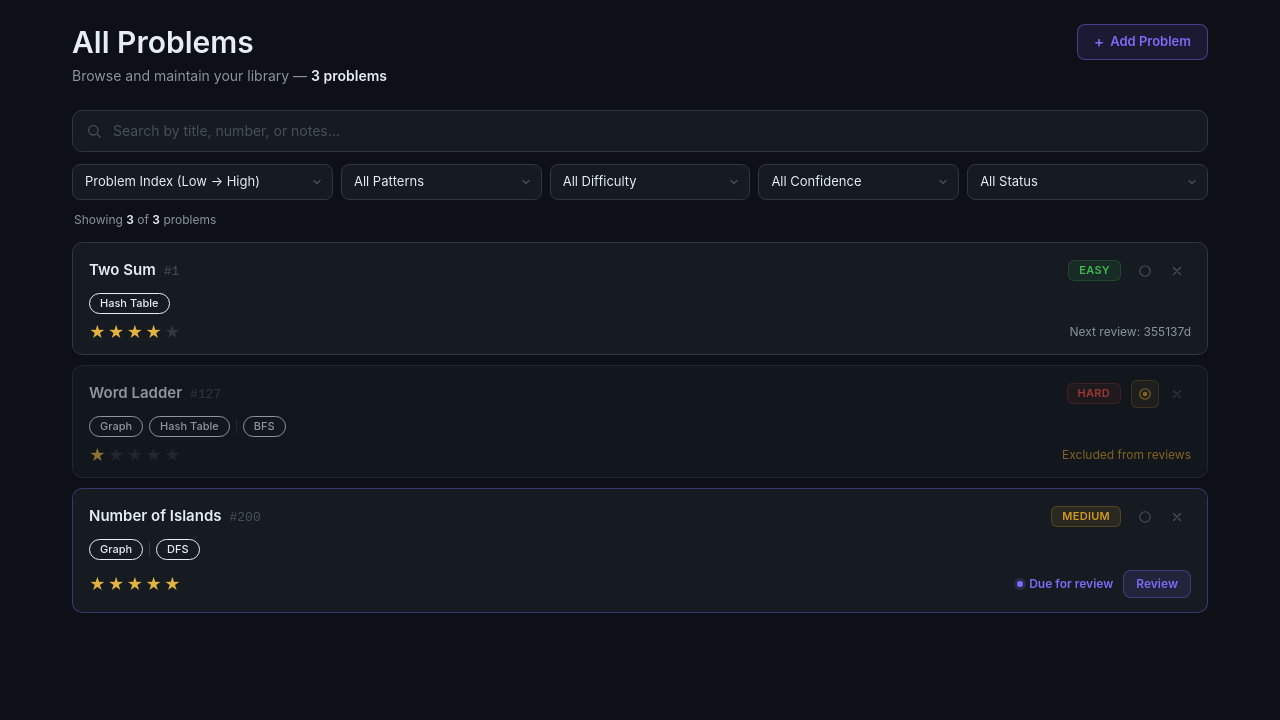
Test case: AllProblemsView › closes the review panel on Back without reviewing
The width and height of the screenshot is (1280, 720).
Click the button "Review": click(1157, 584) [1123, 570, 1191, 598]
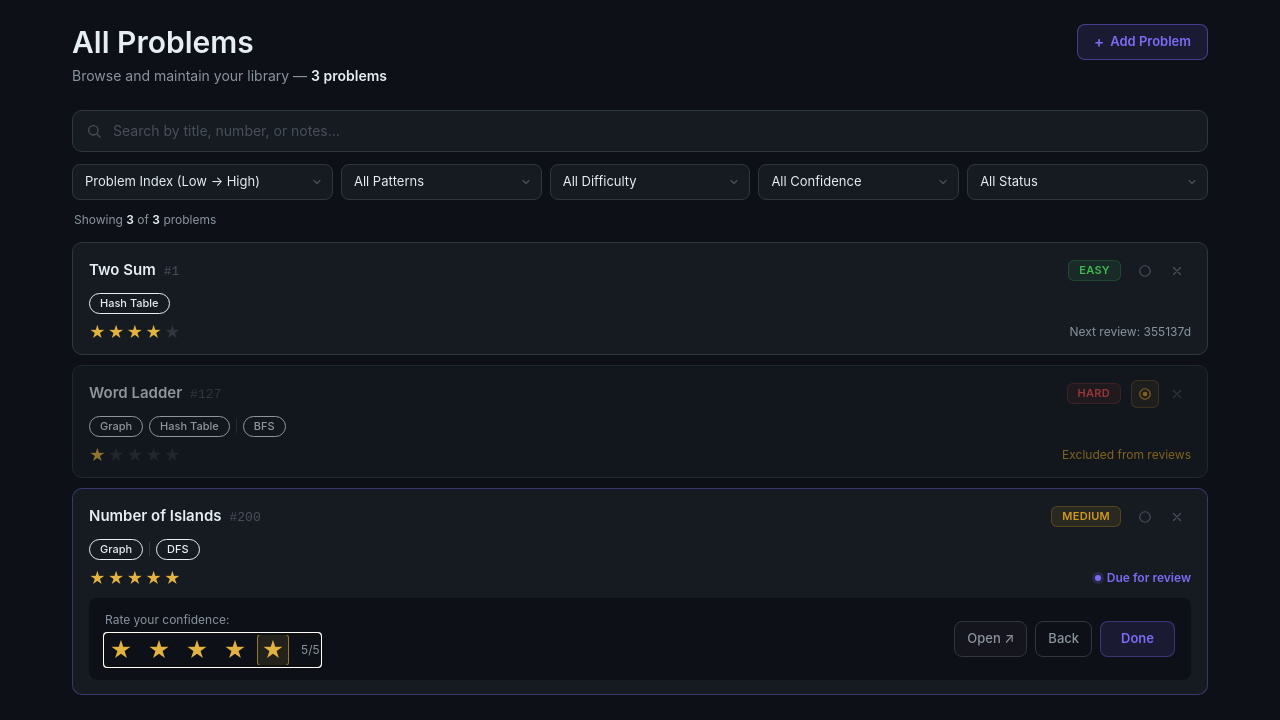
Click the button "Back": click(1064, 638) [1035, 620, 1092, 656]
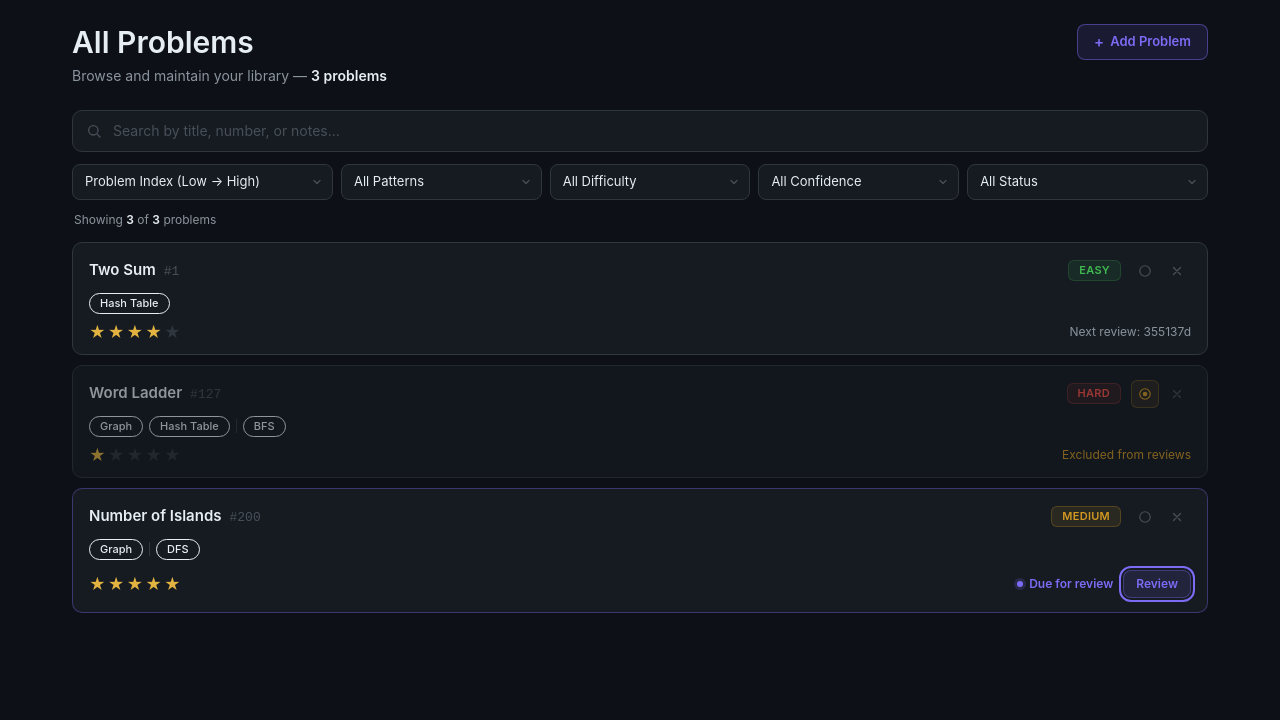
Now the button "Review" is shown, box [1123, 570, 1191, 598]
